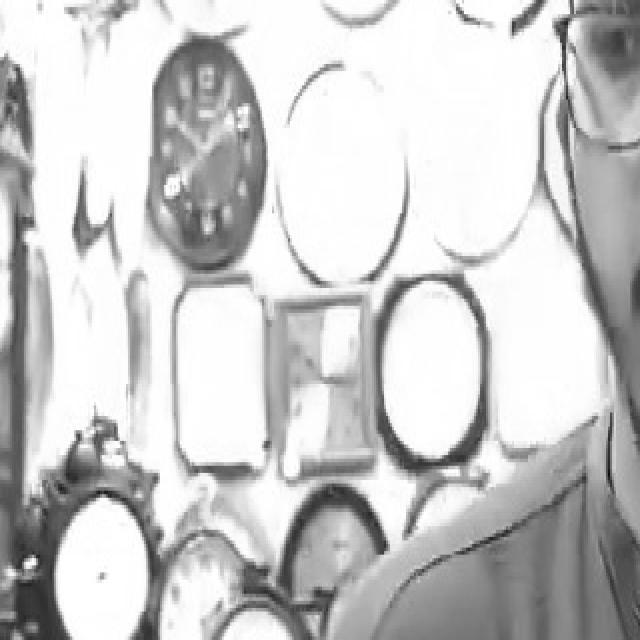wallclock: (394, 13, 538, 274), (12, 416, 162, 640), (85, 1, 196, 290), (481, 216, 607, 462), (278, 57, 406, 296), (145, 29, 266, 269), (372, 265, 493, 481), (169, 274, 276, 483), (265, 282, 376, 476), (146, 473, 270, 640), (65, 189, 134, 469), (276, 473, 386, 640), (9, 212, 56, 526), (198, 576, 318, 640), (0, 39, 34, 181)
